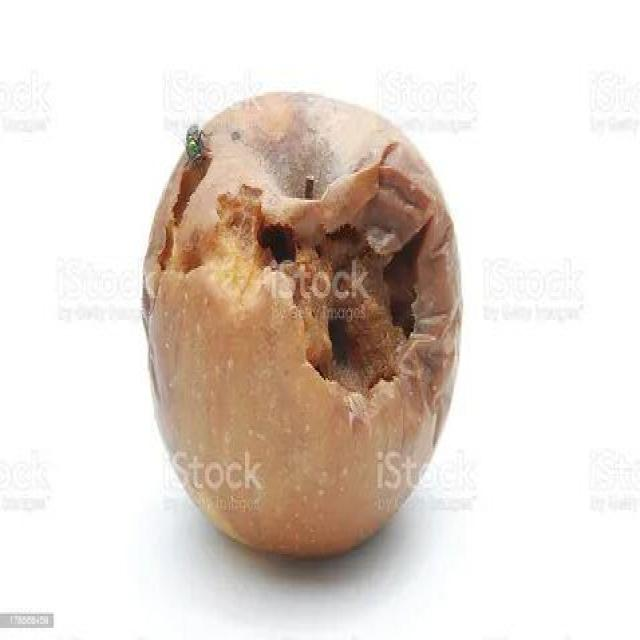Rotten Apple: (143, 89, 465, 561)
